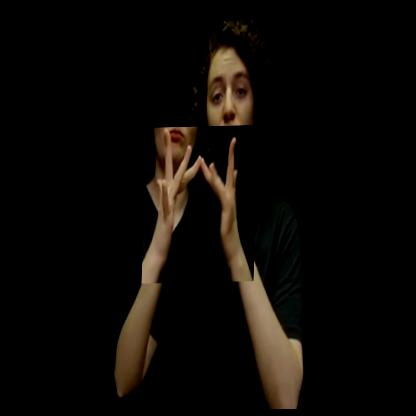Internet: (144, 126, 261, 284)
